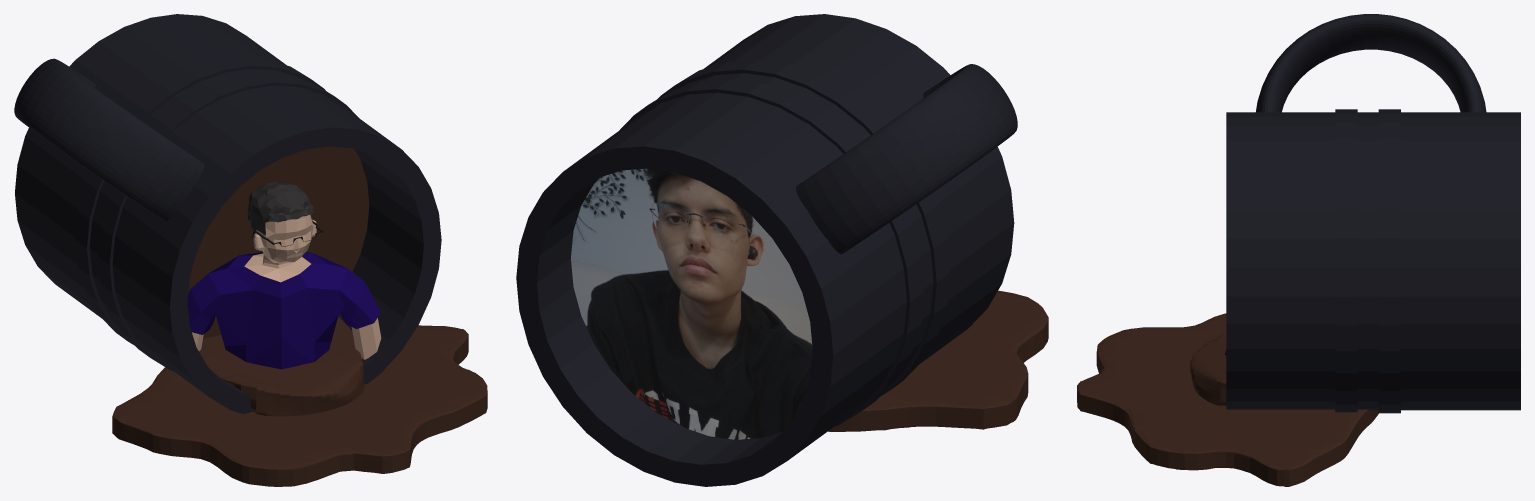
3 renders of one model, left to right at view 1: azimuth 30°, elevation 25°; view 2: azimuth 150°, elevation 25°; view 3: azimuth 270°, elevation 25°, orthographic. The views are drawn at different scales.
Parts seen in each view (by area): view 1: Cylinder.003, Cylinder.007, Cylinder, Cylinder.009, Cylinder.008, Cylinder.006, Cylinder.001, Cylinder.004, Cube, Cylinder.002; view 2: Cylinder.003, Imagem do WhatsApp de 2025-03-17 à(s) 08.13.51_999e1d4c, Cylinder.009, Cylinder.007, Cylinder.004, Cylinder.001; view 3: Cylinder.003, Cylinder.007, Cylinder.009, Cylinder.004, Cylinder.001, Cylinder.006.
Boxes of the visible parts, x1,y1,x2,y2 form: Cylinder.003: (15,14,441,413); Cylinder.007: (112,325,487,486); Cylinder: (187,252,380,369); Cylinder.009: (14,58,204,221); Cylinder.008: (188,146,369,338); Cylinder.006: (199,316,364,416); Cylinder.001: (98,74,358,371); Cylinder.004: (75,57,325,345); Cube: (247,181,314,262); Cylinder.002: (192,253,381,359); Cylinder.003: (516,14,1014,486); Imagem do WhatsApp de 2025-03-17 à(s) 08.13.51_999e1d4c: (571,168,812,439); Cylinder.009: (796,64,1017,254); Cylinder.007: (828,290,1048,431); Cylinder.004: (620,79,923,426); Cylinder.001: (658,59,950,395); Cylinder.003: (1226,112,1520,410); Cylinder.007: (1077,313,1378,486); Cylinder.009: (1256,14,1486,112); Cylinder.004: (1378,109,1400,413); Cylinder.001: (1335,109,1357,412); Cylinder.006: (1190,332,1226,405).
Bounding box in the file's own units: 6.32 × 5.12 × 6.62.
12 materials, 5 textured.
